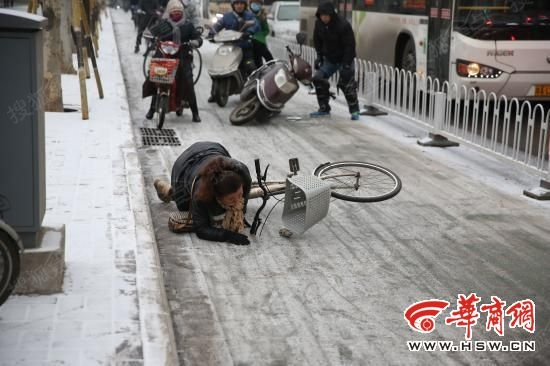fall: (145, 125, 255, 253)
